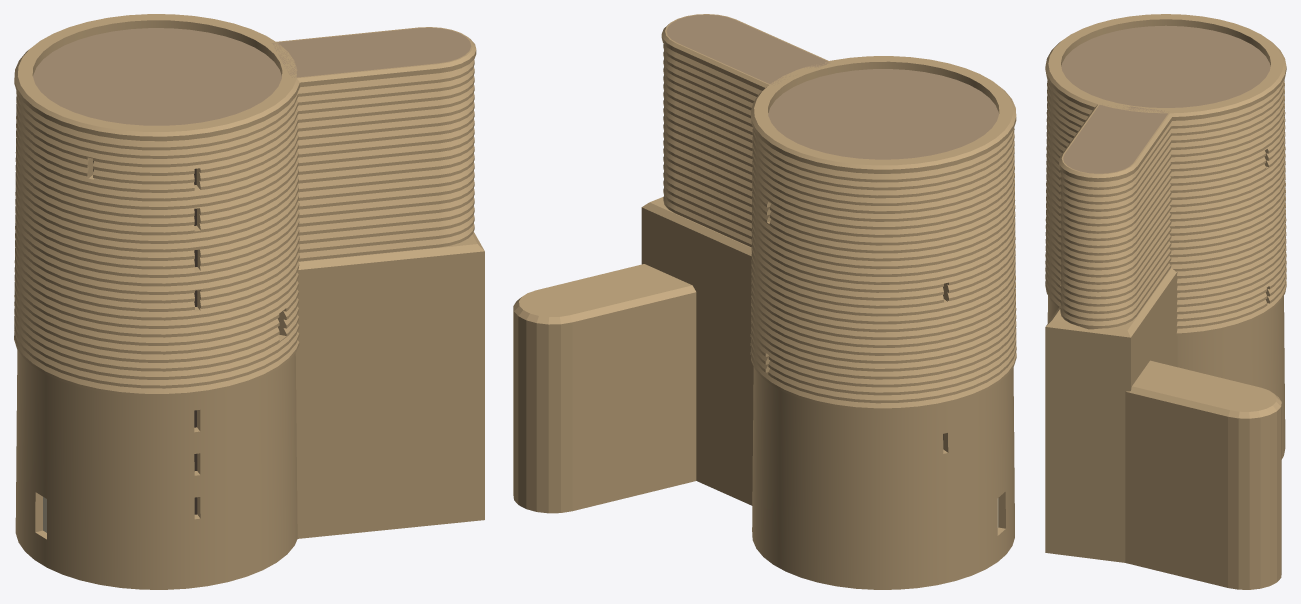
Rendered from baku-maiden-tower.detail.glb.
3 renders of one model, left to right at view 1: azimuth 30°, elevation 25°; view 2: azimuth 150°, elevation 25°; view 3: azimuth 270°, elevation 25°, orthographic. The views are drawn at different scales.
Parts seen in each view (by area): view 1: Maiden Tower; view 2: Maiden Tower; view 3: Maiden Tower.
Boxes of the visible parts, x1,y1,x2,y2 form: Maiden Tower: (14,14,484,589); Maiden Tower: (513,14,1016,589); Maiden Tower: (1045,14,1286,589).
Size of the model in its own units: 31.79 by 29.5 by 16.81.
